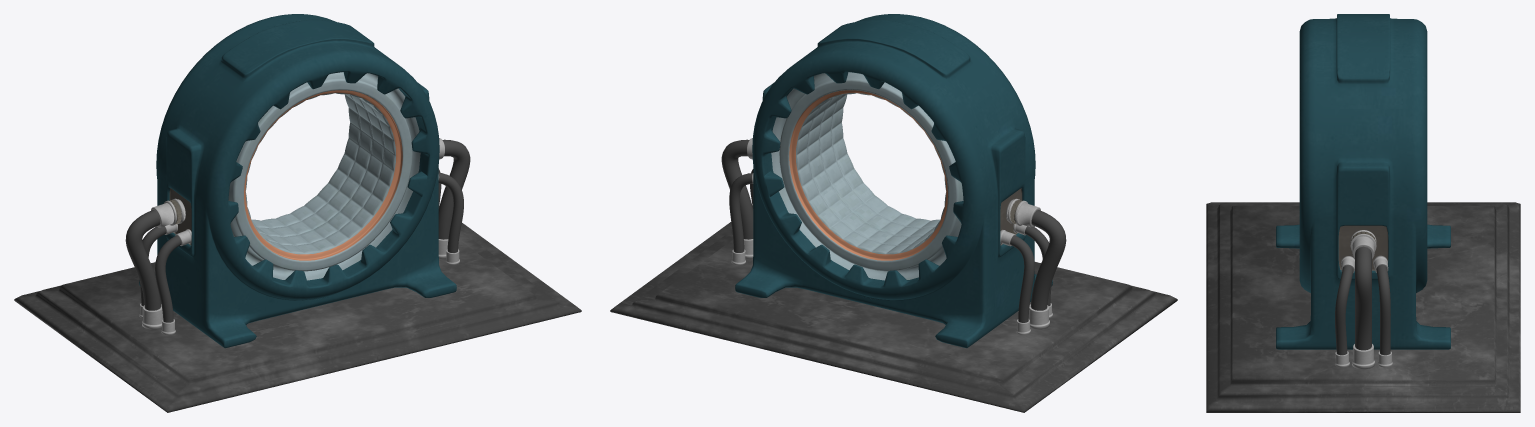
Rendered from grade_three-electromagnetic_portal.glb.
3 renders of one model, left to right at view 1: azimuth 30°, elevation 25°; view 2: azimuth 150°, elevation 25°; view 3: azimuth 270°, elevation 25°, orthographic. The views are drawn at different scales.
Parts seen in each view (by area): view 1: object 20, suelo, Curva (×4), Cilindro; view 2: object 20, suelo, Curva (×4), Cilindro; view 3: suelo, object 20, Curva (×3), Cilindro.002, Cilindro.003.
Part boxes in pixels (bbox=[...]): object 20: bbox=[139, 14, 456, 348]; suelo: bbox=[14, 223, 581, 412]; Curva (×4): bbox=[125, 139, 470, 322]; Cilindro: bbox=[151, 198, 185, 227]; object 20: bbox=[735, 14, 1052, 348]; suelo: bbox=[610, 222, 1177, 412]; Curva (×4): bbox=[721, 139, 1066, 322]; Cilindro: bbox=[1006, 198, 1040, 227]; suelo: bbox=[1206, 202, 1520, 412]; object 20: bbox=[1276, 14, 1450, 349]; Curva (×3): bbox=[1335, 246, 1390, 355]; Cilindro.002: bbox=[1350, 230, 1376, 258]; Cilindro.003: bbox=[1352, 344, 1374, 369].
Size of the model in its own units: 518 by 326 by 332.
8 materials, 8 textured.
